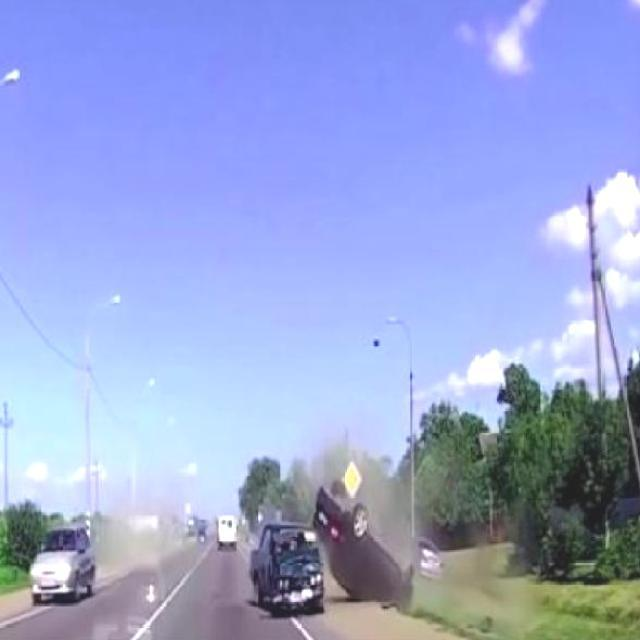accident: (252, 483, 415, 613)
